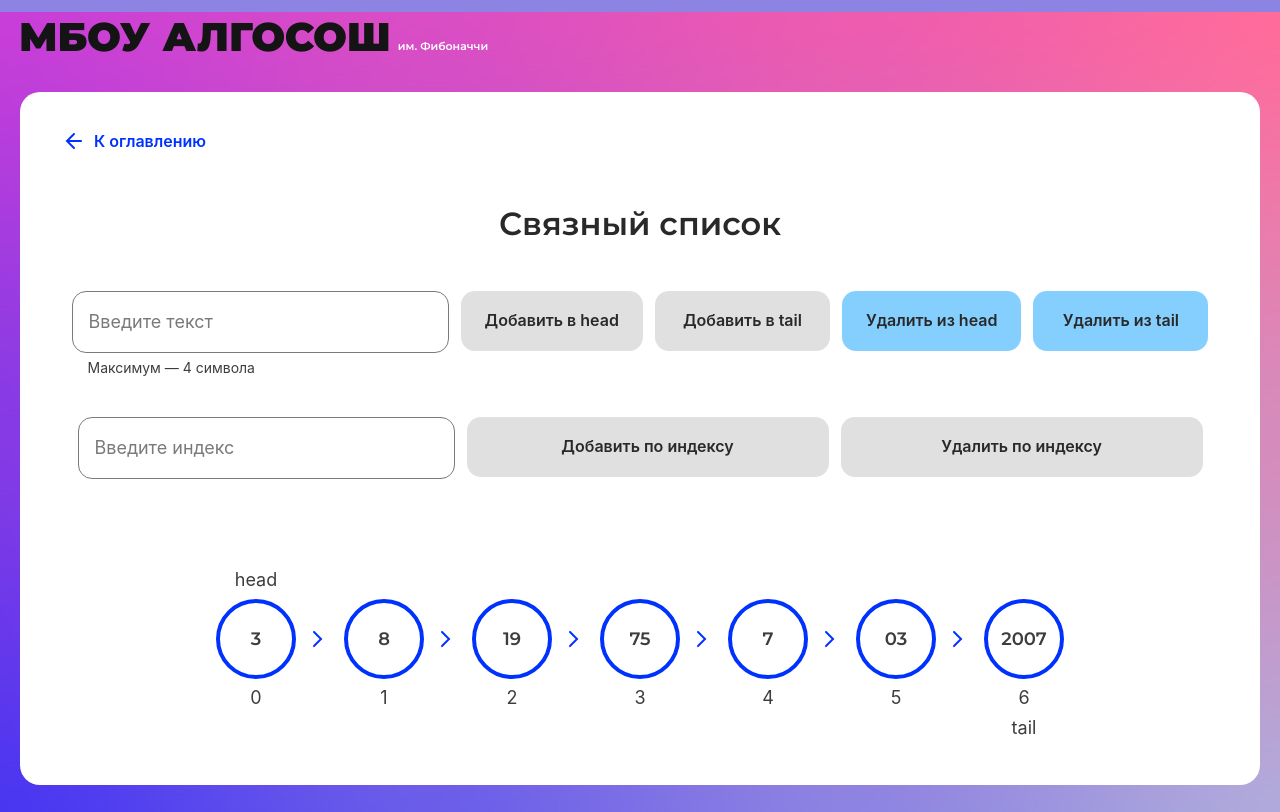
Scenario: List component tests › fill input with some value should activate button
Type "A" into the field with test id "value-input" at (261, 322), box [72,291,449,353]
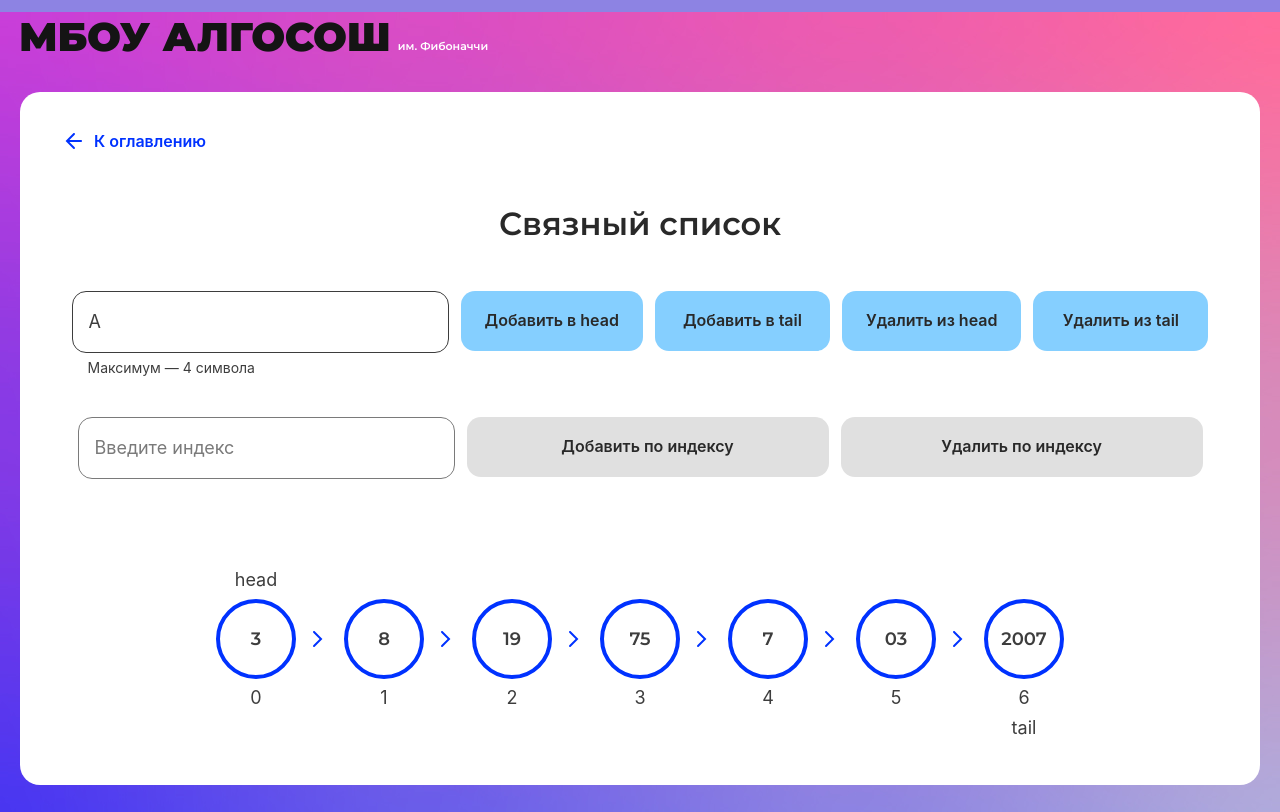
Expected: the button with test id "addWithIndex" is disabled, [467,417,829,477]
Now the button with test id "addFirst" is enabled, box [461,291,643,351]
Now the button with test id "addLast" is enabled, box [655,291,830,351]
Type "2" into the number field with test id "index-input" at (267, 448), box [78,417,455,479]
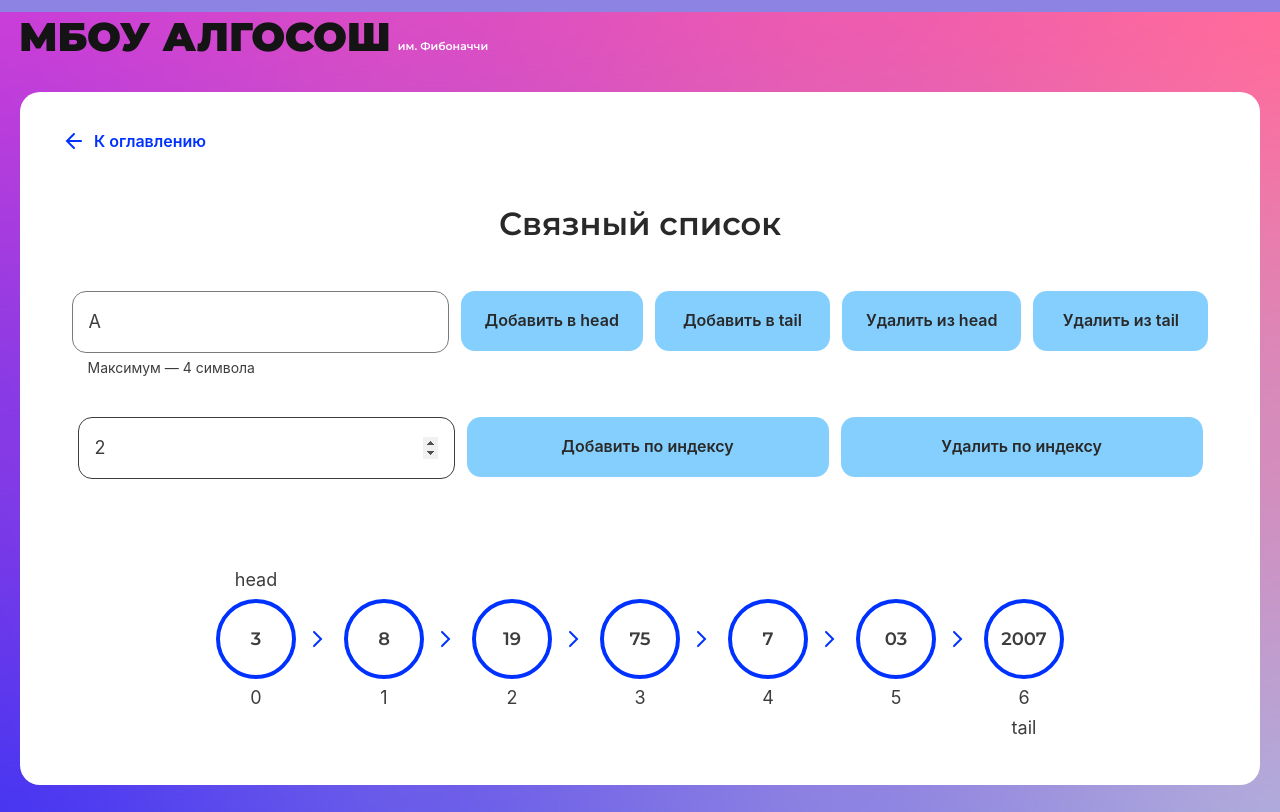
Now the button with test id "addWithIndex" is enabled, box [467,417,829,477]
Now the button with test id "deleteWithIndex" is enabled, box [841,417,1203,477]
